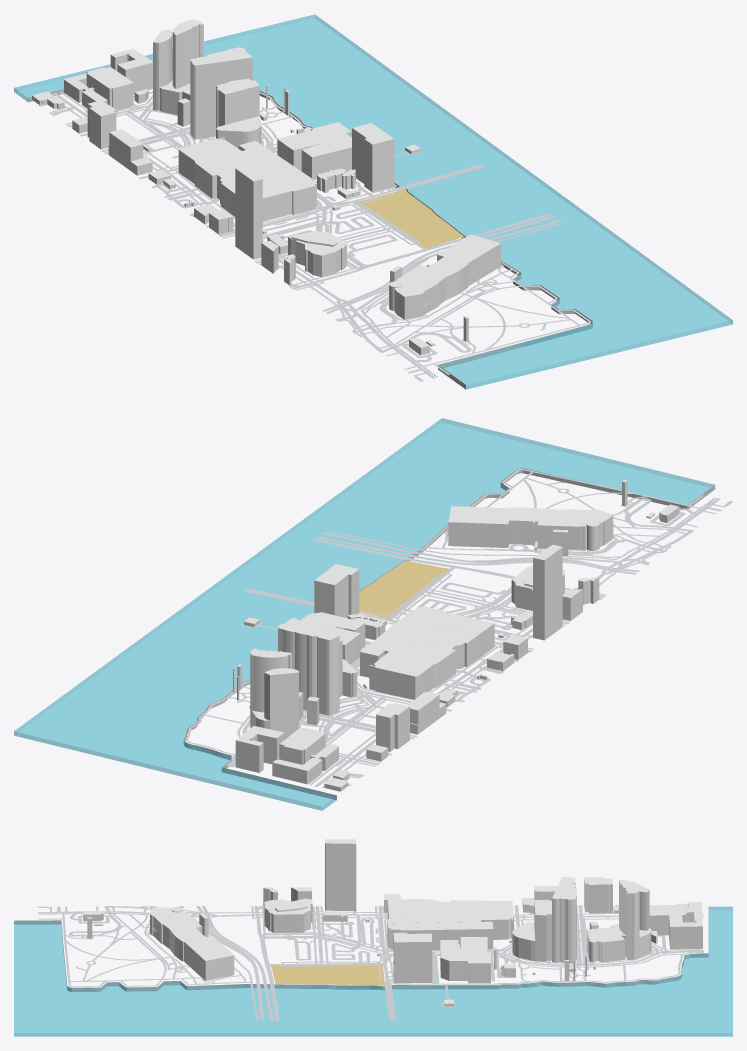
Rendered from miami-waterfront.glb.
The picture shows the model from 3 angles, top to bottom: view 1: azimuth 30°, elevation 25°; view 2: azimuth 150°, elevation 25°; view 3: azimuth 270°, elevation 25°; orthographic projection. The views are drawn at different scales.
Visible parts, largest first — view 1: Water, Adjacent Buildings, Roadways, Site, Retaining Wall; view 2: Water, Adjacent Buildings, Roadways, Site, Retaining Wall; view 3: Water, Adjacent Buildings, Roadways, Retaining Wall, Site.
Part boxes in pixels (left/top/right/bottom): Water: left=14, top=14, right=732, bottom=389; Adjacent Buildings: left=32, top=19, right=500, bottom=355; Roadways: left=38, top=91, right=591, bottom=381; Site: left=356, top=189, right=464, bottom=248; Retaining Wall: left=28, top=89, right=592, bottom=389; Water: left=14, top=418, right=713, bottom=810; Adjacent Buildings: left=233, top=479, right=679, bottom=791; Roadways: left=185, top=469, right=732, bottom=788; Site: left=359, top=560, right=449, bottom=618; Retaining Wall: left=183, top=468, right=715, bottom=800; Water: left=14, top=906, right=732, bottom=1036; Adjacent Buildings: left=83, top=839, right=702, bottom=1006; Roadways: left=37, top=904, right=704, bottom=1020; Retaining Wall: left=14, top=906, right=708, bottom=991; Site: left=271, top=964, right=384, bottom=985.
Size of the model in its own units: 680 by 180 by 1626.
